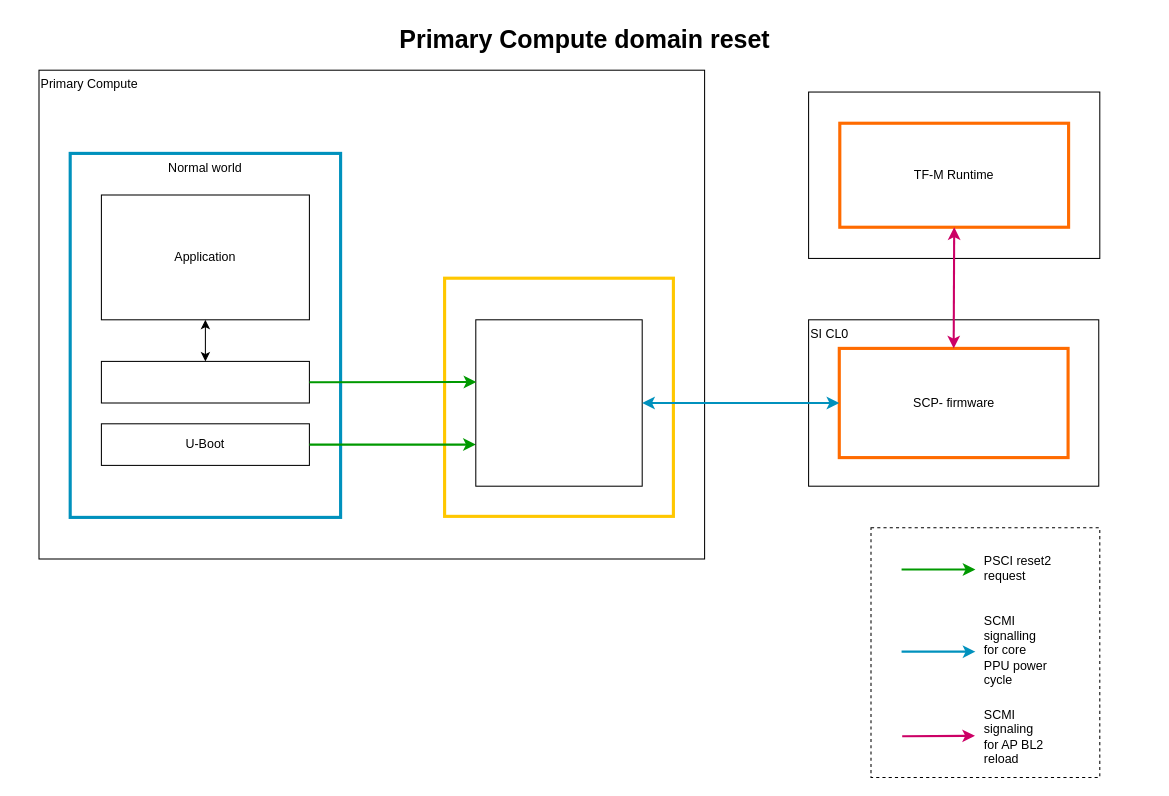
The diagram is 1169 pixels wide and 796 high, and some of its shapes have lost their labels. Each missing label, with the box of its shape:
Linux Kernel: (100, 360, 309, 403)
RSE: (808, 91, 1100, 258)
Secure world: (443, 276, 674, 517)
TF-A (EL3 Runtime): (475, 319, 642, 486)
